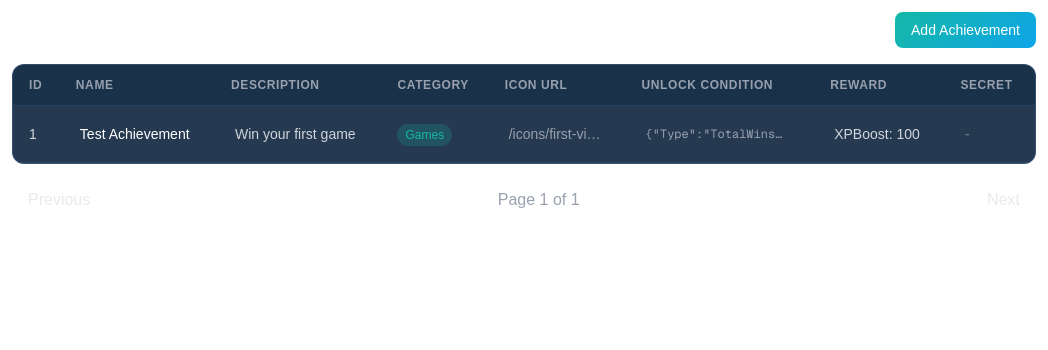
Test: AchievementsTable › error handling › shows error when update fails
// Click to edit
Click the text "Test Achievement": click(135, 134) [76,126,194,142]
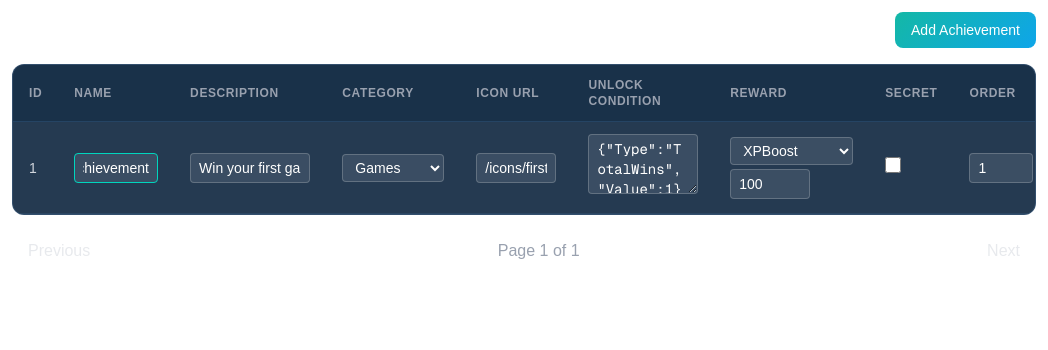
Replace the text in the 1st field showing "Test Achievement" with "Updated": (116, 168) [74,152,158,182]
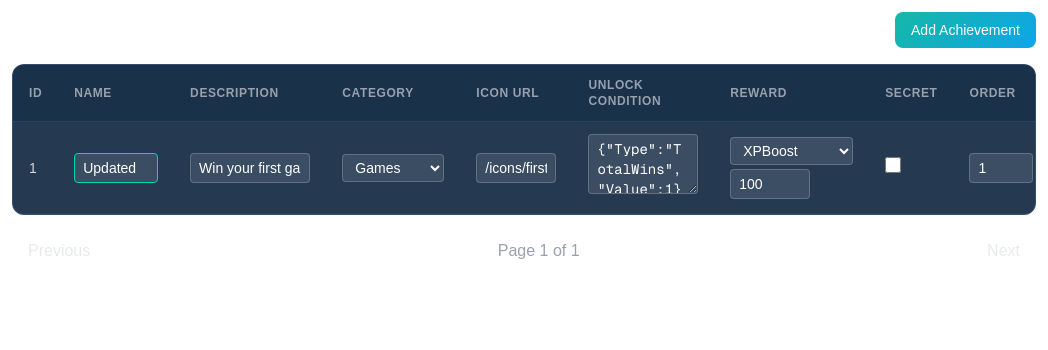
Press Enter in the 1st field showing "Test Achievement", box [74,152,158,182]
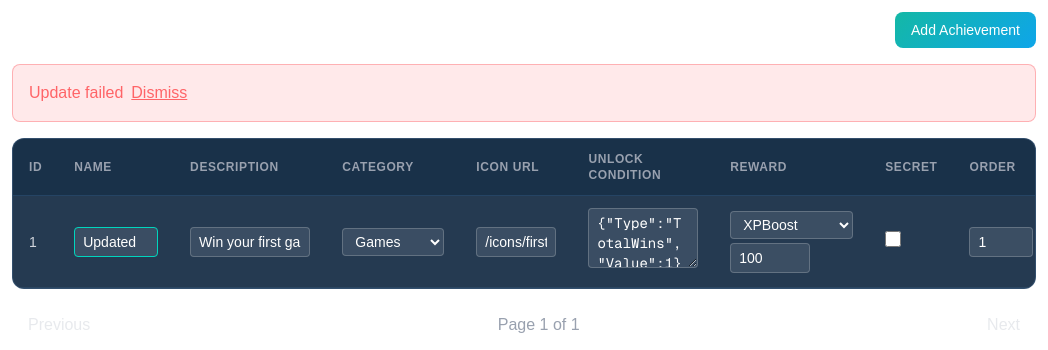
Expected: the text "Update failed Dismiss" is shown, [12,64,1036,122]
